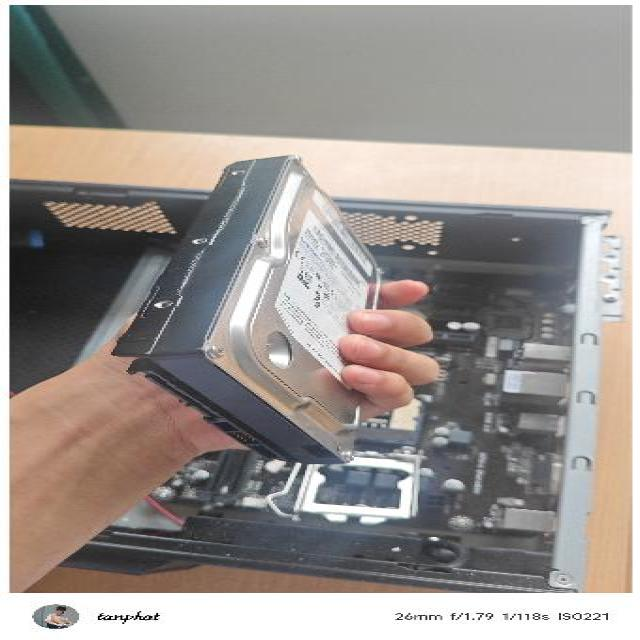DISK: (105, 149, 405, 466)
